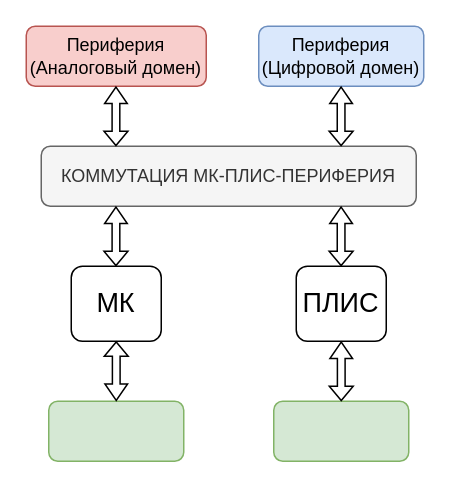
This 450x488 diagram has some shape labels left out. The shapes that lost their labels are listed below. From the top down, each one's centre as x and y in pixels, then its label:
At pixel 115 430: "Программатор МК".
At pixel 340 430: "Программатор ПЛИС".
